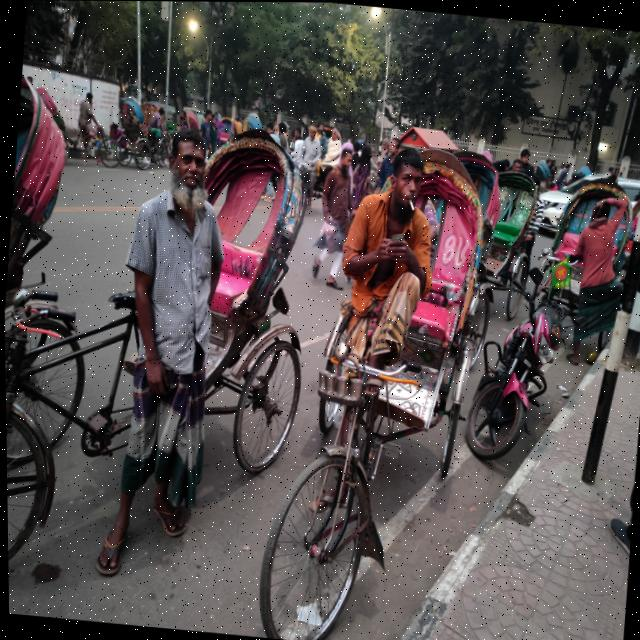rikshaw: (1, 84, 329, 638), (156, 137, 513, 640)
